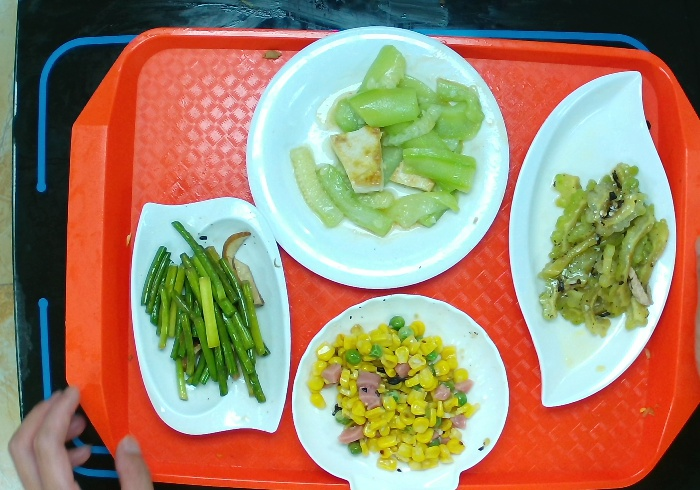RJxy-Bei_Ke_Wan: (284, 290, 512, 488)
RJxy-Jian_Jiao_Fang_Die: (125, 192, 293, 444)
RJxy-Jian_Jiao_Pan: (498, 62, 680, 418)
RJxy-Yuan_Pan: (242, 23, 513, 298)
